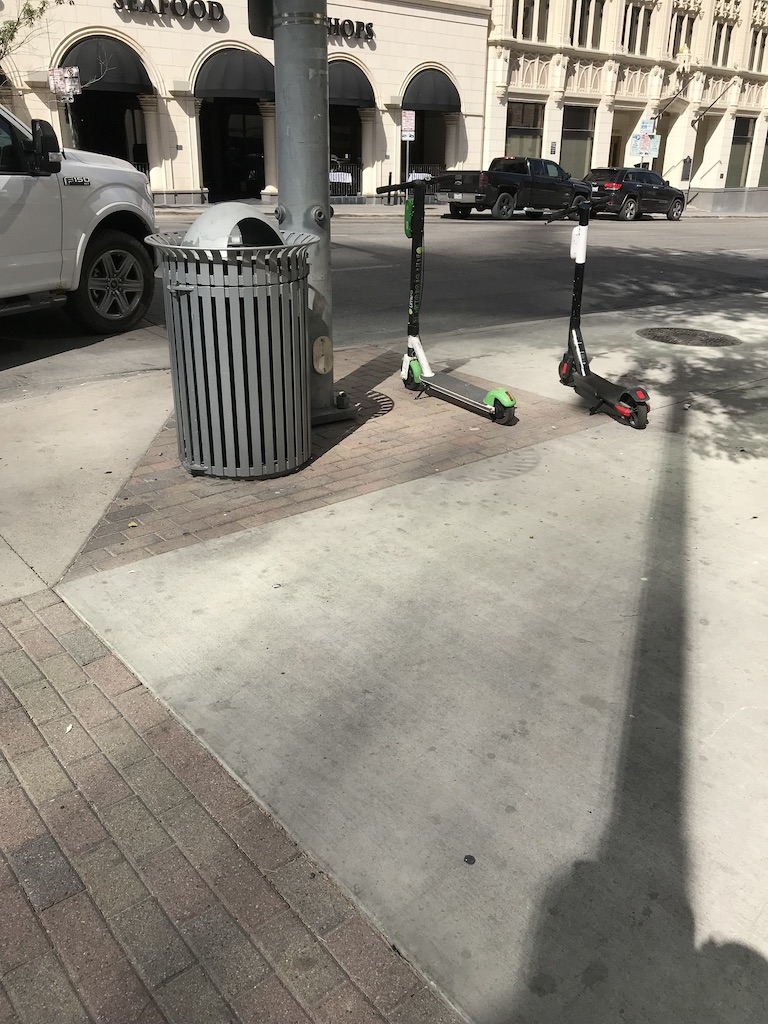scooter: (376, 176, 515, 426), (547, 196, 650, 428)
